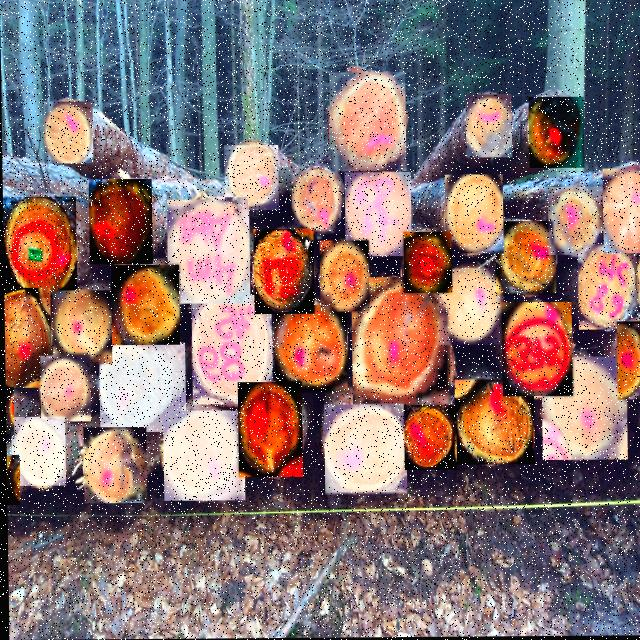wood-log: (351, 277, 450, 407), (190, 295, 272, 405), (540, 357, 626, 461), (166, 200, 250, 304), (98, 343, 185, 432), (329, 73, 406, 172), (323, 405, 406, 496), (2, 197, 76, 298), (162, 411, 244, 501), (453, 380, 533, 465), (501, 303, 572, 397), (274, 306, 347, 394), (237, 382, 302, 478), (344, 173, 411, 257), (110, 265, 179, 345), (88, 179, 152, 265), (253, 229, 314, 315), (577, 245, 637, 331), (439, 269, 504, 345), (82, 427, 146, 504), (3, 288, 51, 388), (444, 175, 503, 254), (495, 222, 555, 297), (51, 291, 111, 365), (528, 98, 584, 169), (10, 417, 65, 487), (548, 188, 603, 256), (224, 146, 278, 212), (319, 241, 369, 312), (403, 405, 456, 471), (39, 356, 90, 422), (602, 169, 640, 254), (291, 170, 341, 234), (43, 102, 93, 164), (403, 232, 451, 294), (466, 95, 512, 158), (616, 322, 640, 400), (5, 456, 19, 505), (5, 387, 13, 437)
